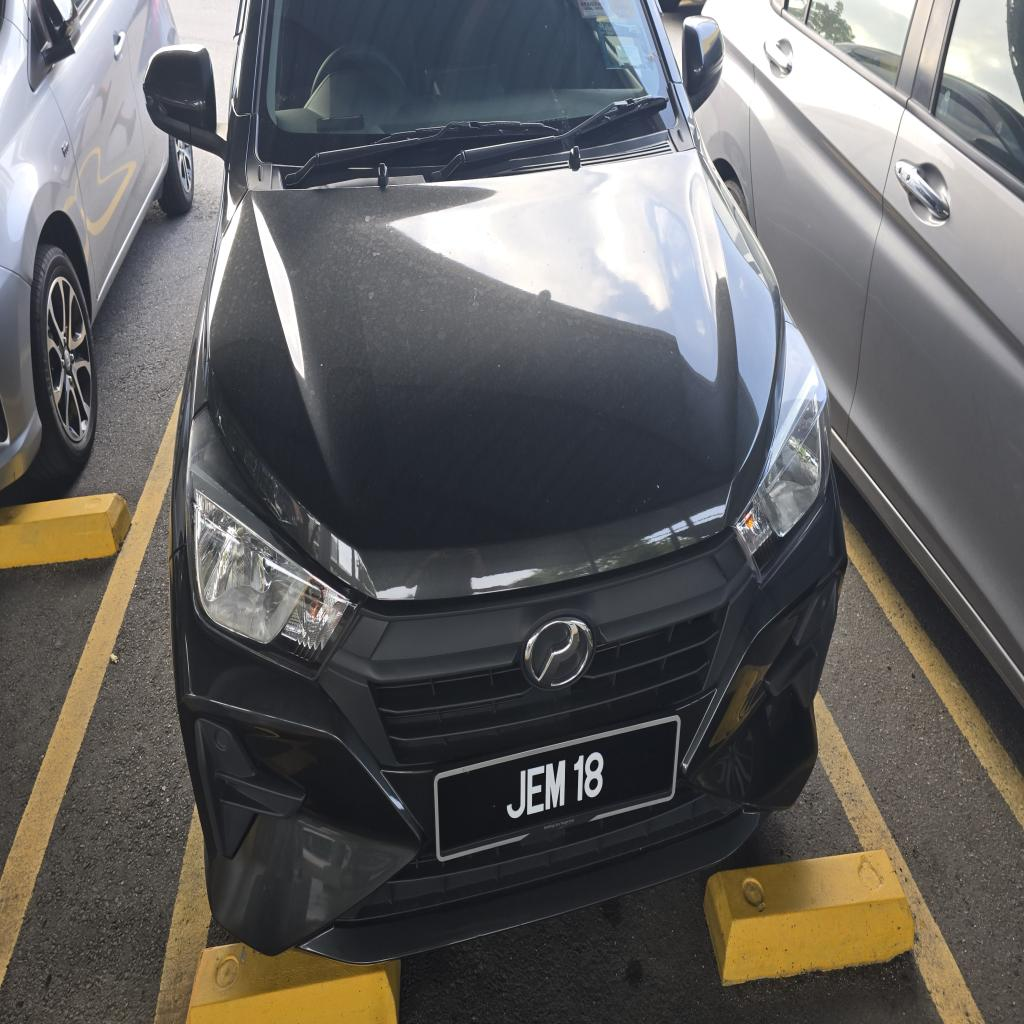car: (144, 0, 846, 961)
car plate: (435, 716, 680, 860)
